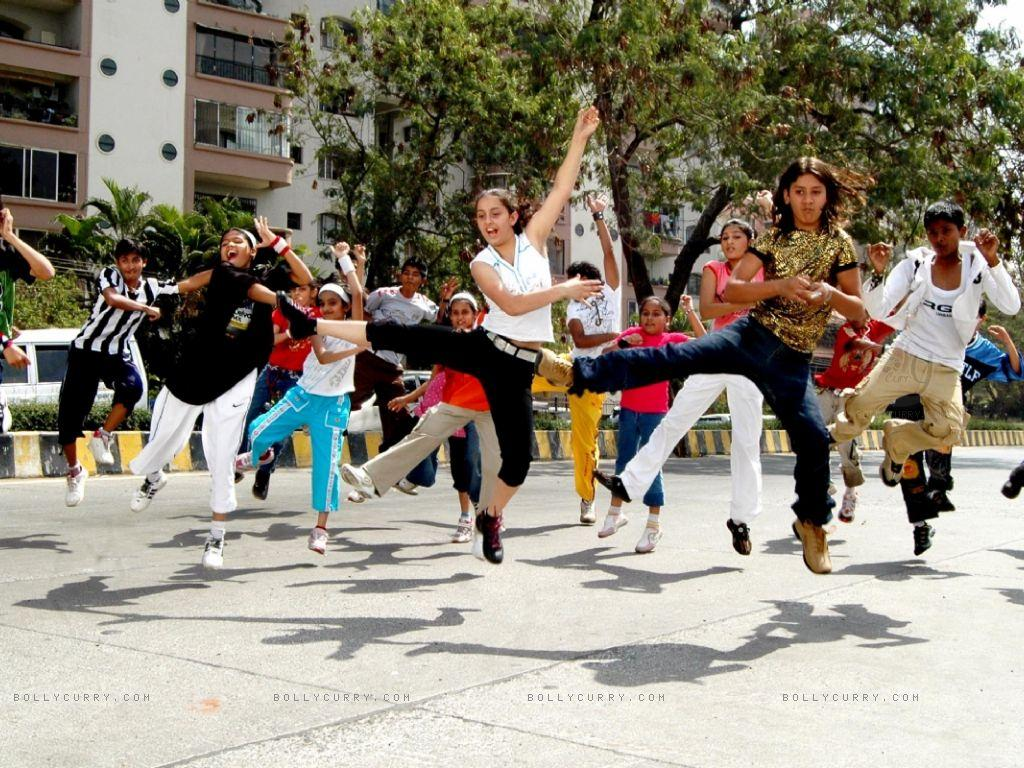face: (789, 177, 826, 222), (477, 197, 511, 244), (928, 217, 960, 256), (222, 231, 249, 269), (720, 226, 746, 257), (641, 300, 665, 333), (319, 289, 343, 320), (450, 300, 474, 330), (118, 249, 142, 278), (289, 281, 310, 308), (401, 264, 421, 291)
